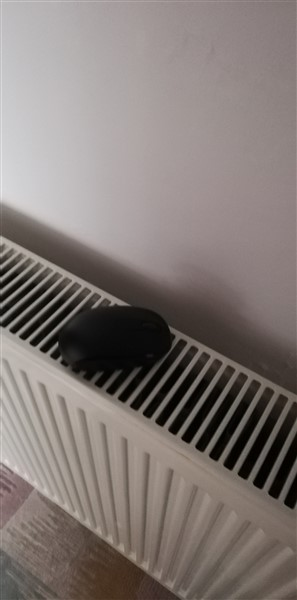mouse: (50, 301, 191, 377)
